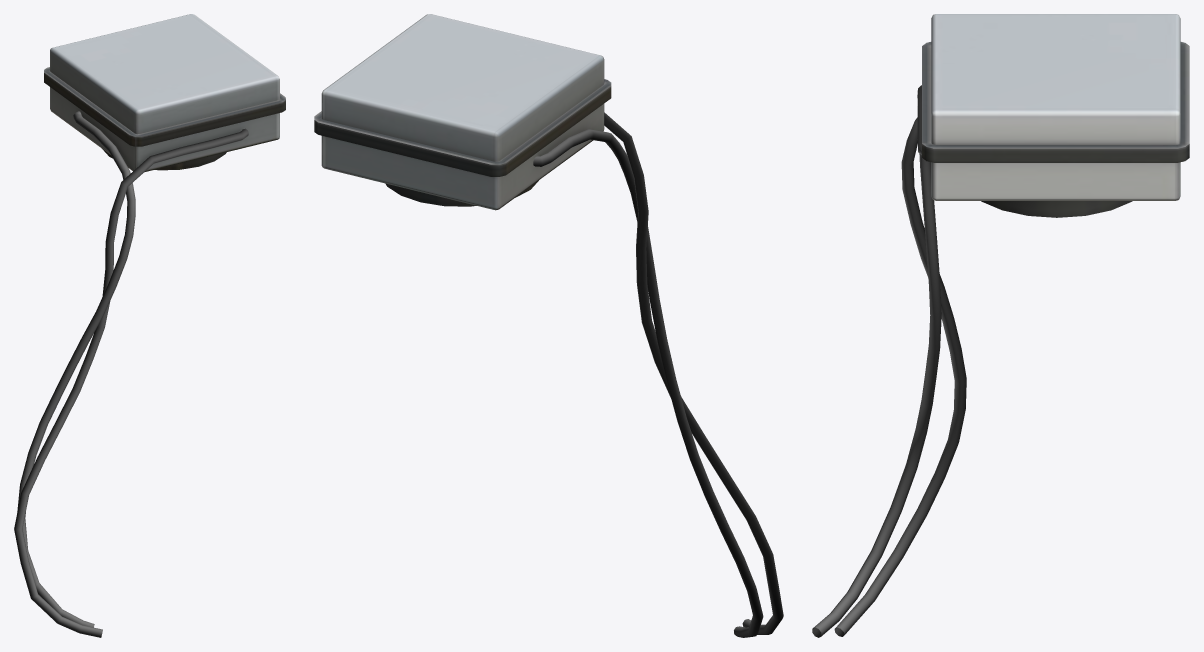
The model's file is windpowergenerator_inside_2001_08.obj.
3 renders of one model, left to right at view 1: azimuth 30°, elevation 25°; view 2: azimuth 150°, elevation 25°; view 3: azimuth 270°, elevation 25°, orthographic. The views are drawn at different scales.
Visible parts, largest first — view 1: pasted__extrudedSurface2; view 2: pasted__extrudedSurface2; view 3: pasted__extrudedSurface2.
Boxes of the visible parts, x1,y1,x2,y2 form: pasted__extrudedSurface2: (14, 14, 285, 637); pasted__extrudedSurface2: (314, 14, 783, 637); pasted__extrudedSurface2: (812, 14, 1189, 637).
Size of the model in its own units: 294 by 482 by 243.
Materials: 1 (1 with a texture image).
